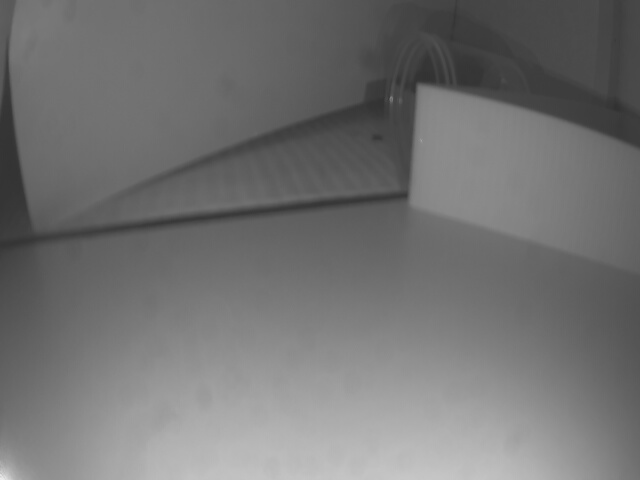Red: (408, 85, 640, 271)
